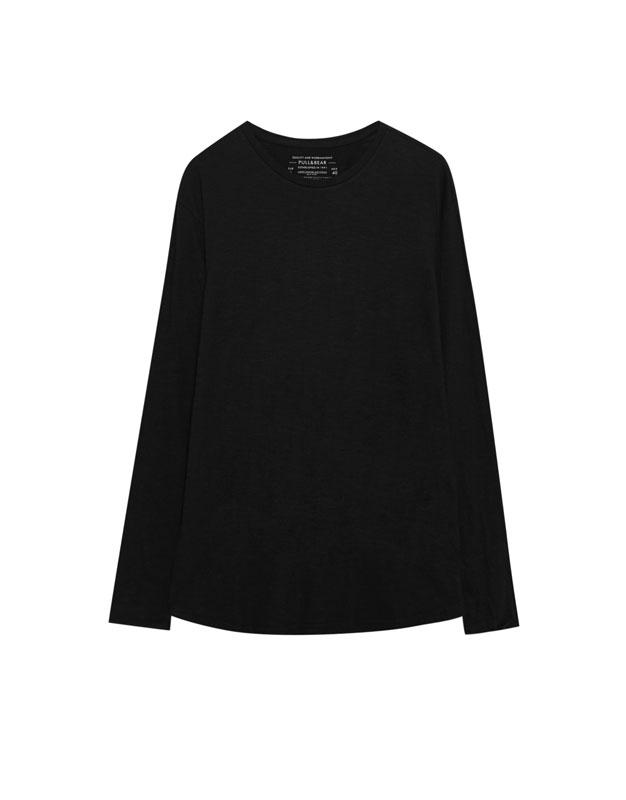teeshirt: (92, 117, 585, 703)
